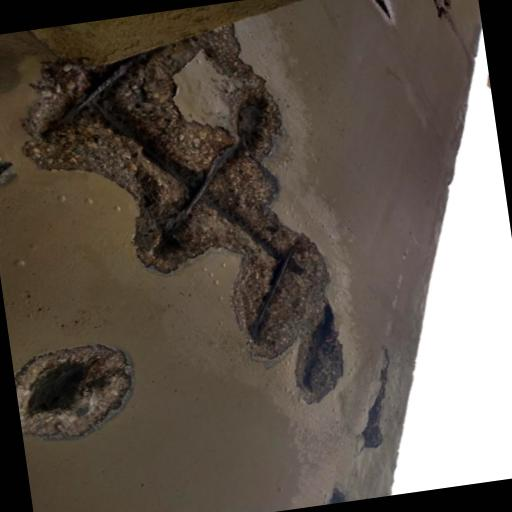spalling: (11, 29, 353, 413), (11, 328, 145, 456)
